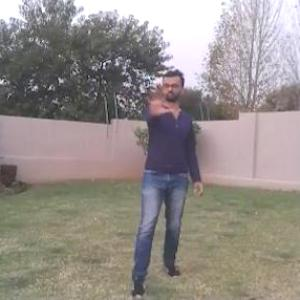follow_hand: (143, 83, 177, 116)
